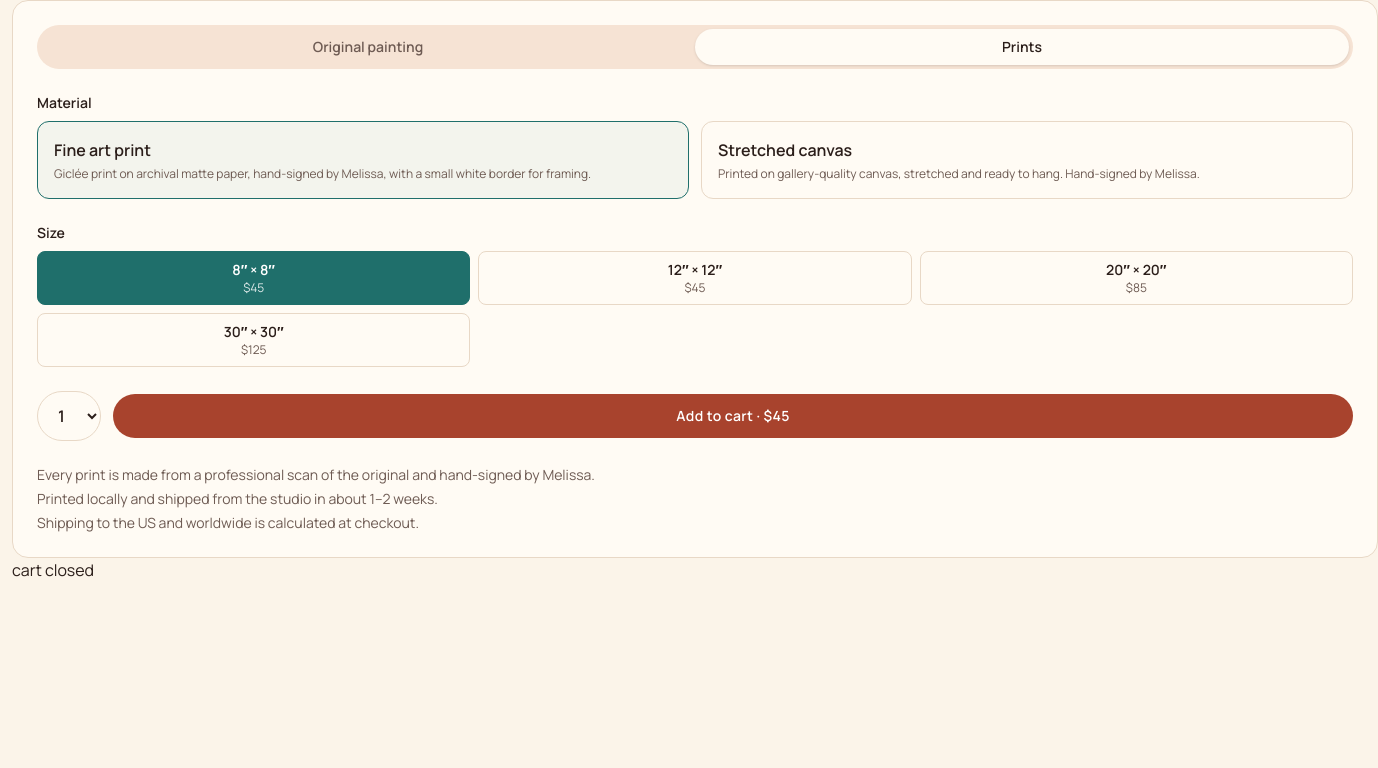
it: PurchasePanel: original not for sale › explains when the original is in the private collection
This screenshot has width=1378, height=768.
Click the tab "Original painting" at [368, 47], box [41,29,695,65]
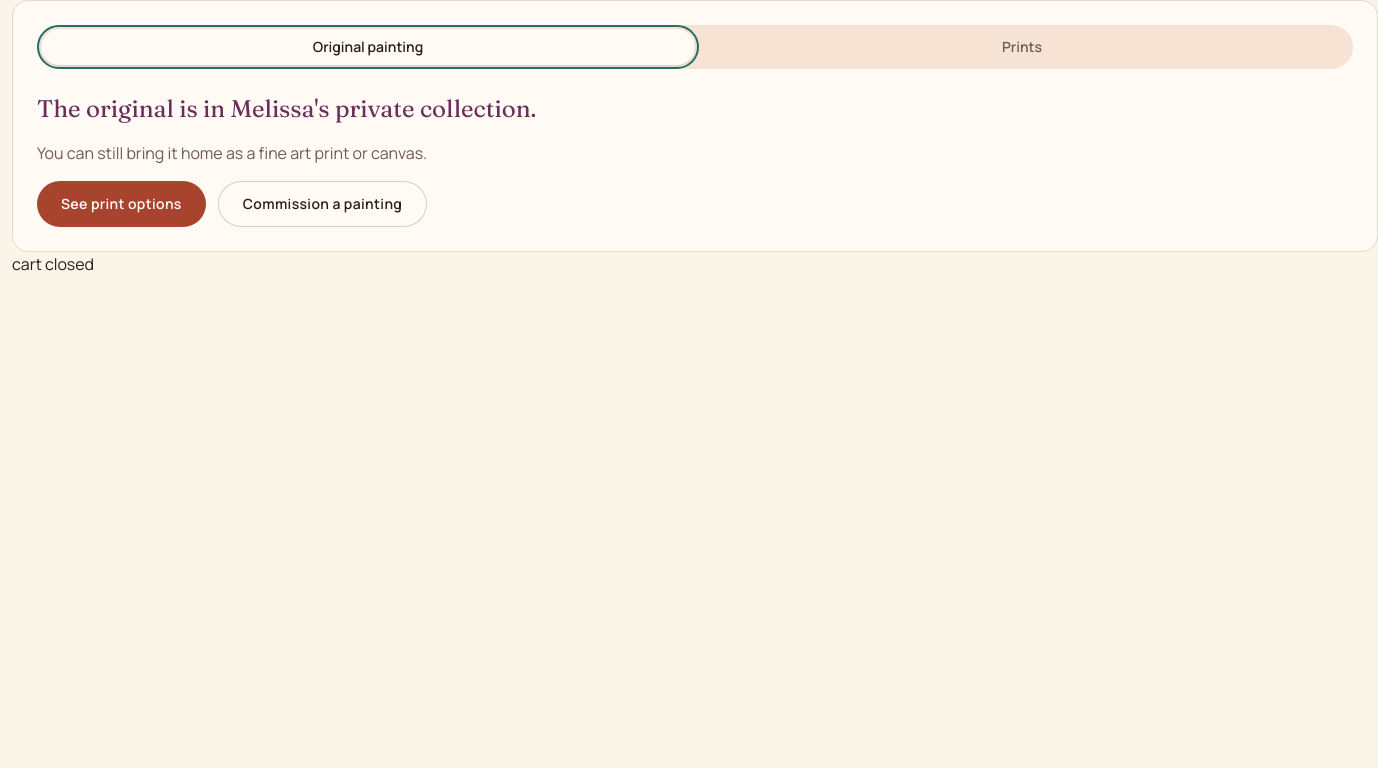
Now the text "The original is in Melissa's private collection." is shown, box [37,94,536,123]
